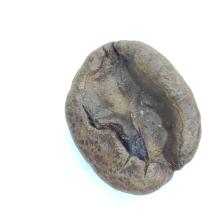NG: (83, 47, 180, 171)
